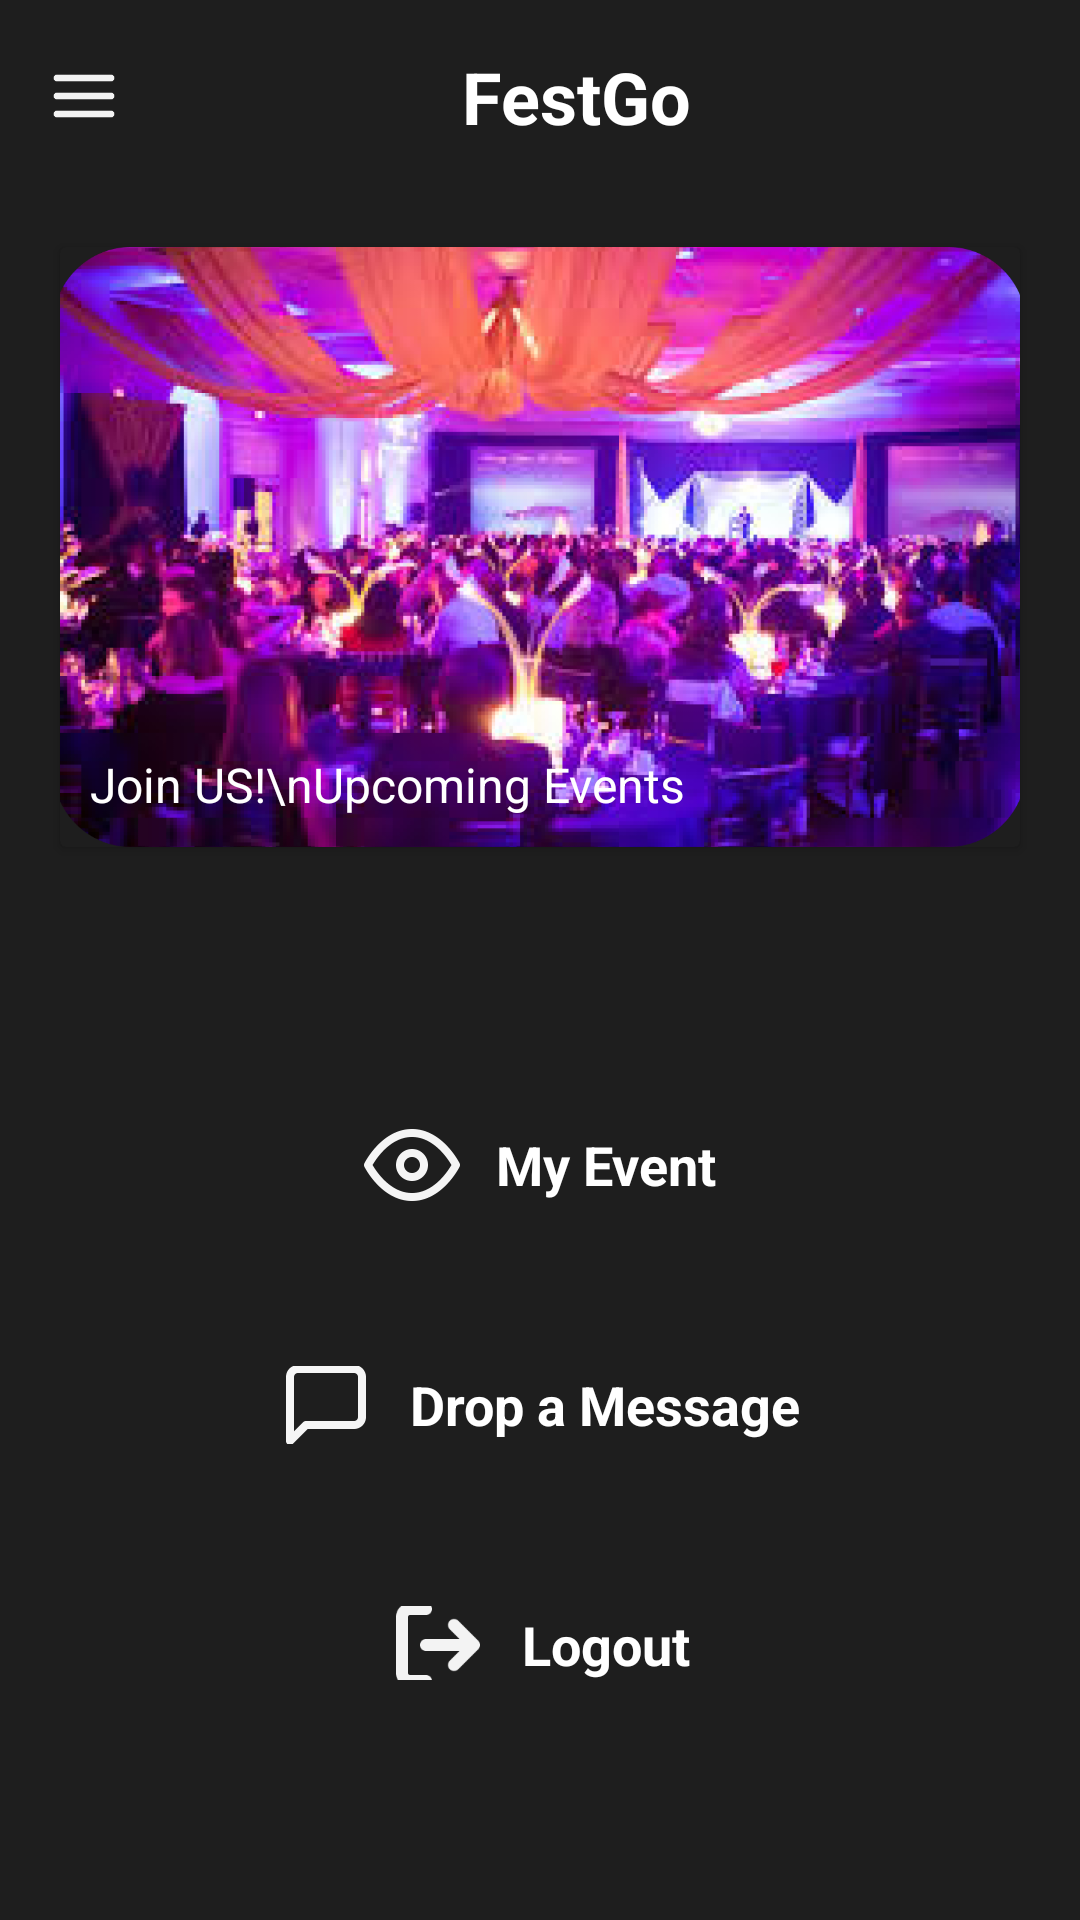

Named icons in this screenshot (1080w x 1920h) and their bounding boxes, [x1,y1,x2,y2]:
eye: [364,1129,460,1201]
menu: [53,74,115,118]
